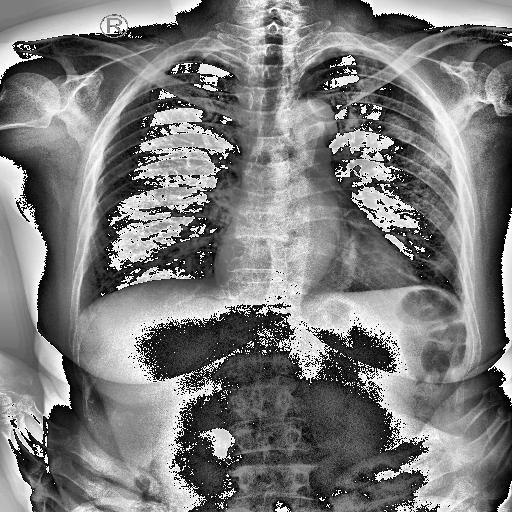0- Aortic enlargement: (266, 94, 342, 157)
11- Pleural thickening: (148, 45, 244, 76), (133, 46, 234, 72), (301, 43, 392, 69), (304, 35, 390, 60), (451, 258, 477, 313)
13- Pulmonary fibrosis: (410, 247, 459, 282)
7- Lung Opacity: (368, 102, 416, 148), (419, 145, 448, 177)
8- Nodule-Mass: (370, 106, 420, 150), (374, 112, 416, 148)
